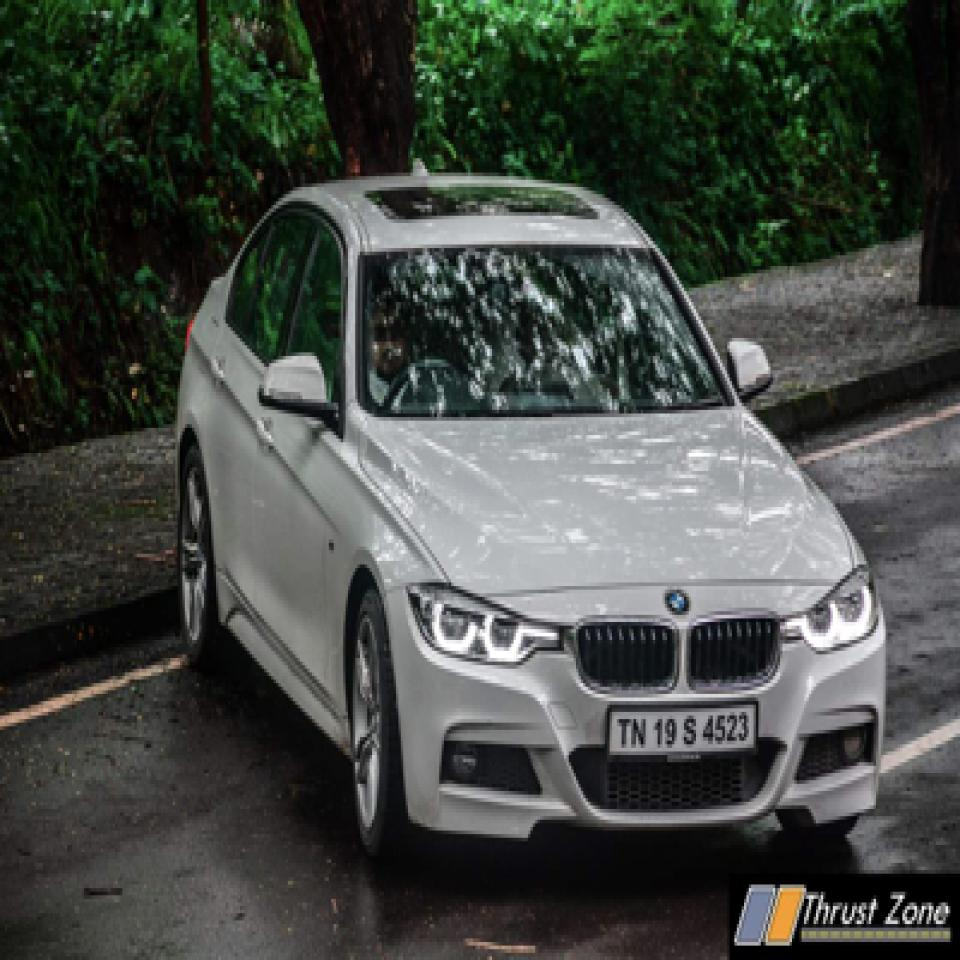licence: (595, 694, 761, 762)
